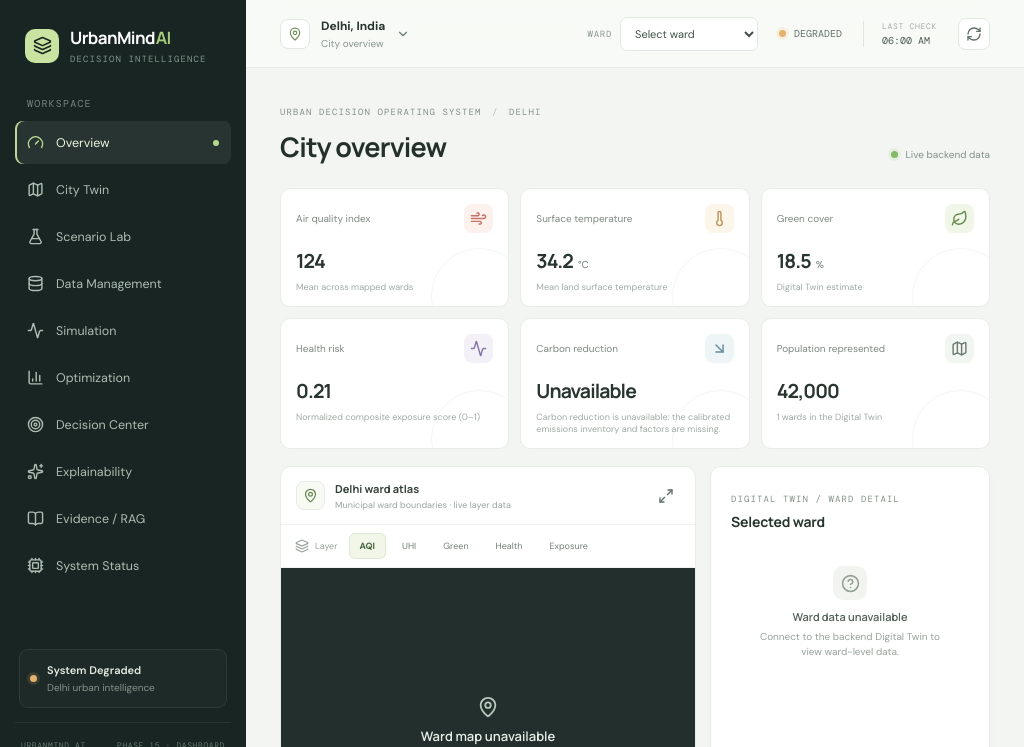
UrbanMind dashboard › rejects a missing or zero planner duration before scenario generation
The width and height of the screenshot is (1024, 747).
Click the link "Scenario Lab". click: (79, 236)
box: [27,228,131,245]
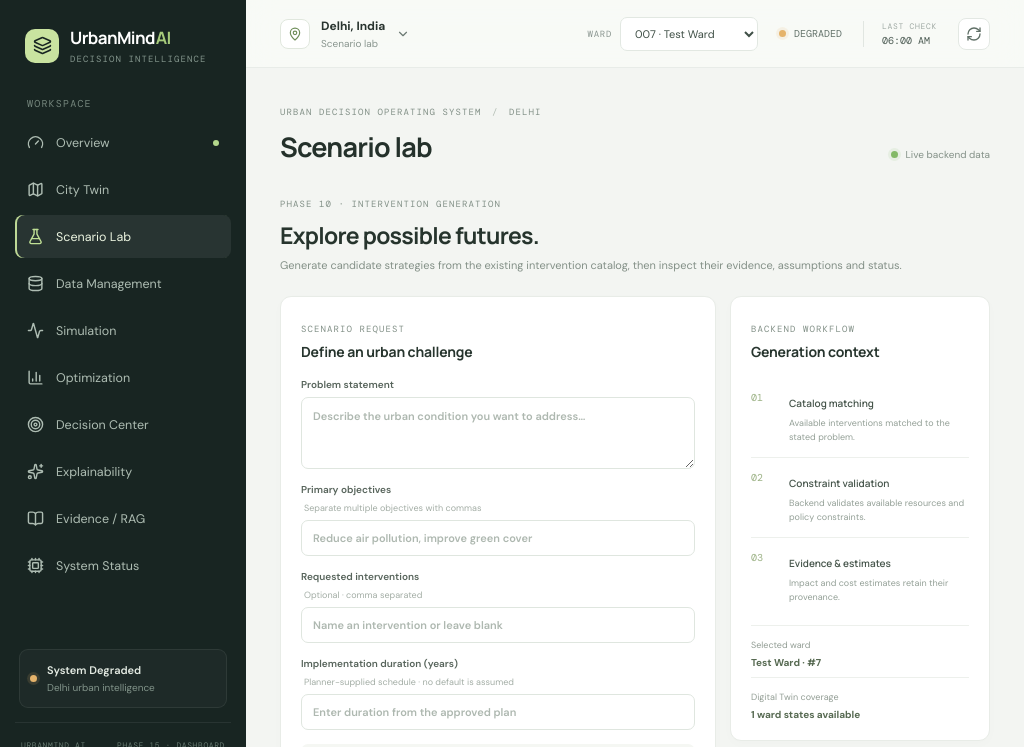
Type "Low green cover" into the text box labelled "Problem statement". click: (498, 433)
box: [301,397,695,469]
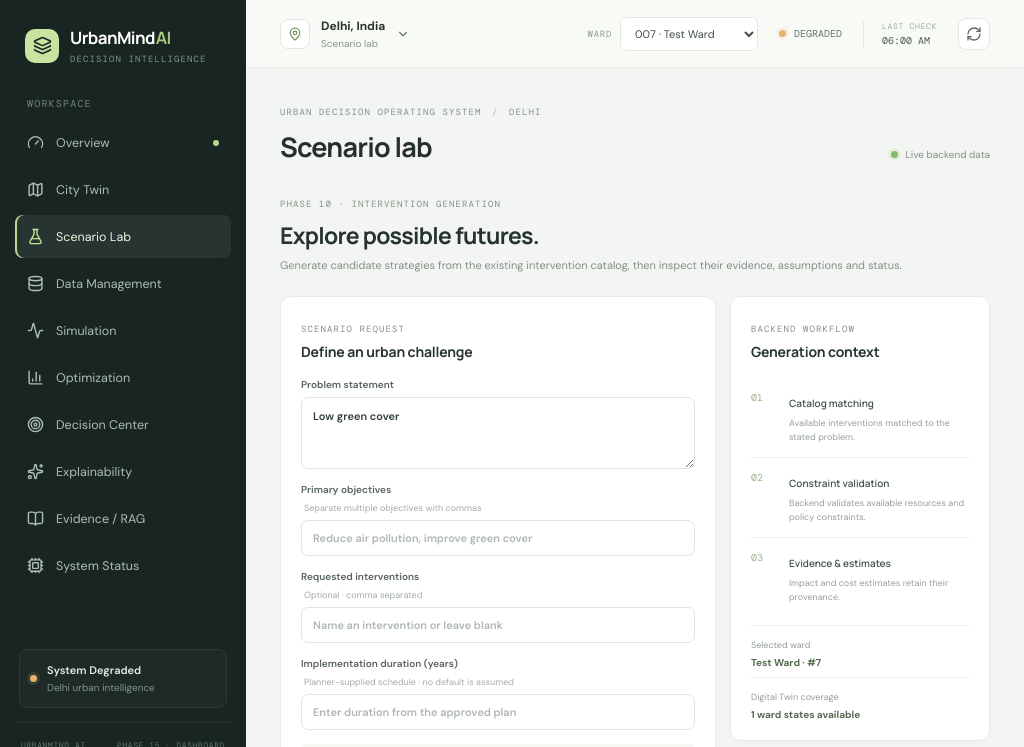
Type "0" into the number field labelled "Implementation duration (years)". click: (498, 712)
box: [301,694,695,730]
(page scrolled)
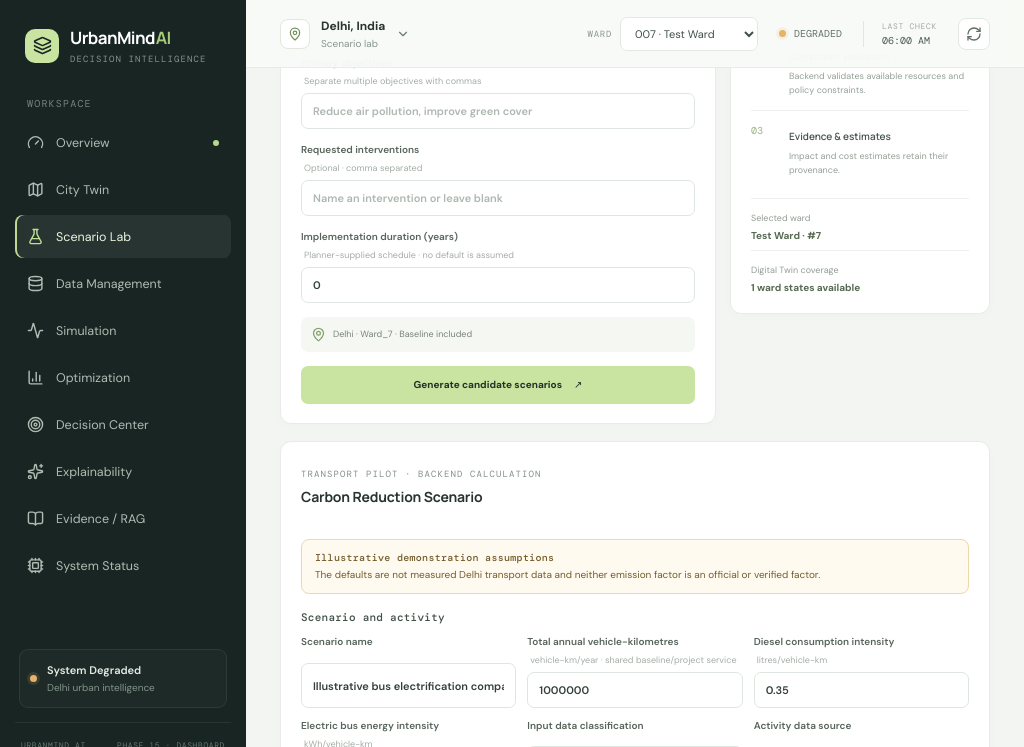
Click the button "Generate candidate scenarios ↗". click: (498, 385)
box: [301,366,695,404]
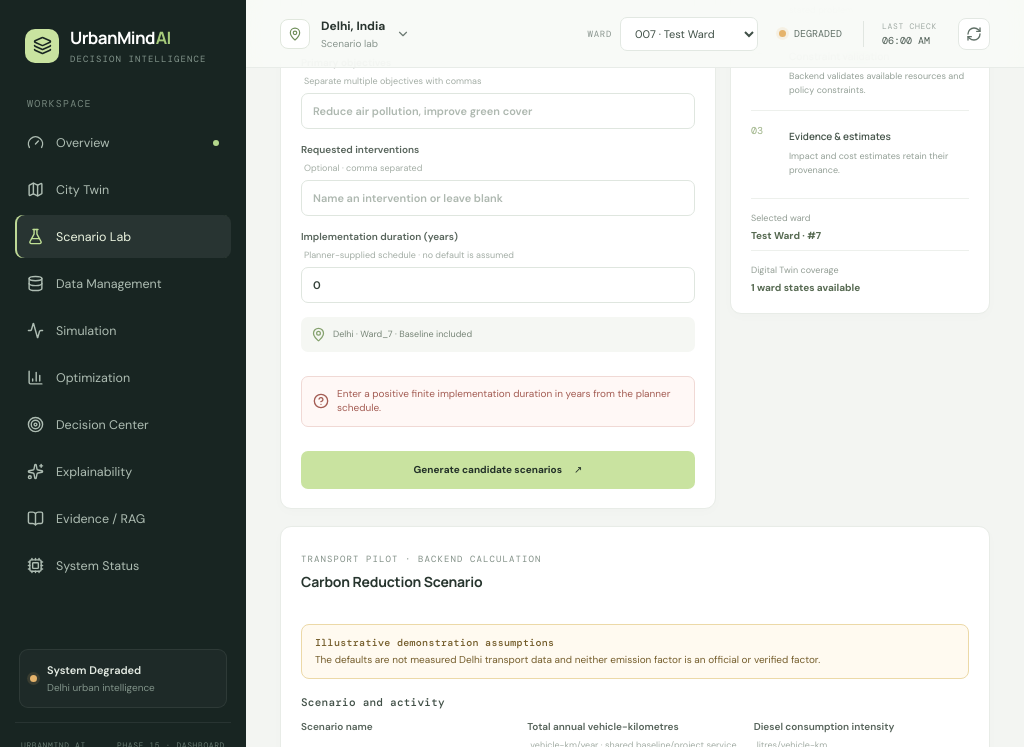
Now the message shows "positive finite implementation duration", box [337,387,670,414]
